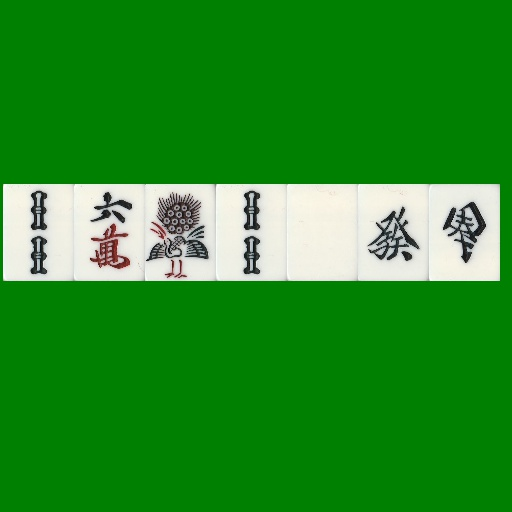1s: (145, 184, 216, 281)
2s: (3, 184, 74, 281), (216, 184, 287, 281)
6m: (74, 184, 145, 281)
hatsu: (358, 184, 429, 281)
south: (429, 184, 500, 281)
white: (287, 184, 358, 281)
